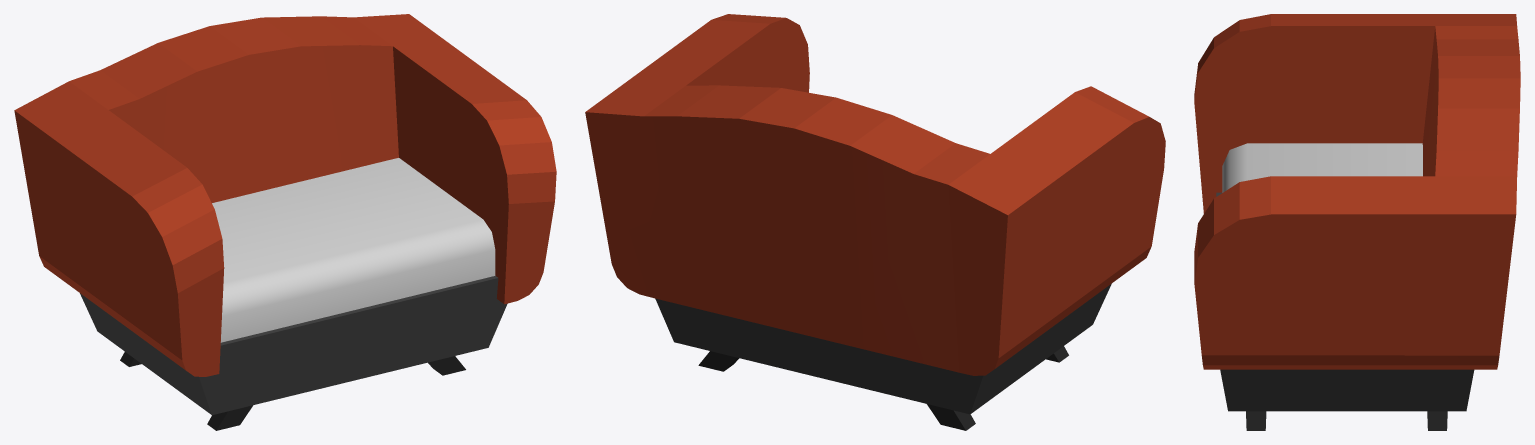
Rendered from sofa_3.glb.
The picture shows the model from 3 angles, left to right: view 1: azimuth 30°, elevation 25°; view 2: azimuth 150°, elevation 25°; view 3: azimuth 270°, elevation 25°; orthographic projection. The views are drawn at different scales.
Parts seen in each view (by area): view 1: Sofa_3; view 2: Sofa_3; view 3: Sofa_3.
Part boxes in pixels (<box>): Sofa_3: <box>14,14,556,430</box>; Sofa_3: <box>585,14,1165,430</box>; Sofa_3: <box>1194,14,1520,430</box>.
Size of the model in its own units: 1.36 by 0.9128 by 0.9339.
Materials: 1 (1 with a texture image).
